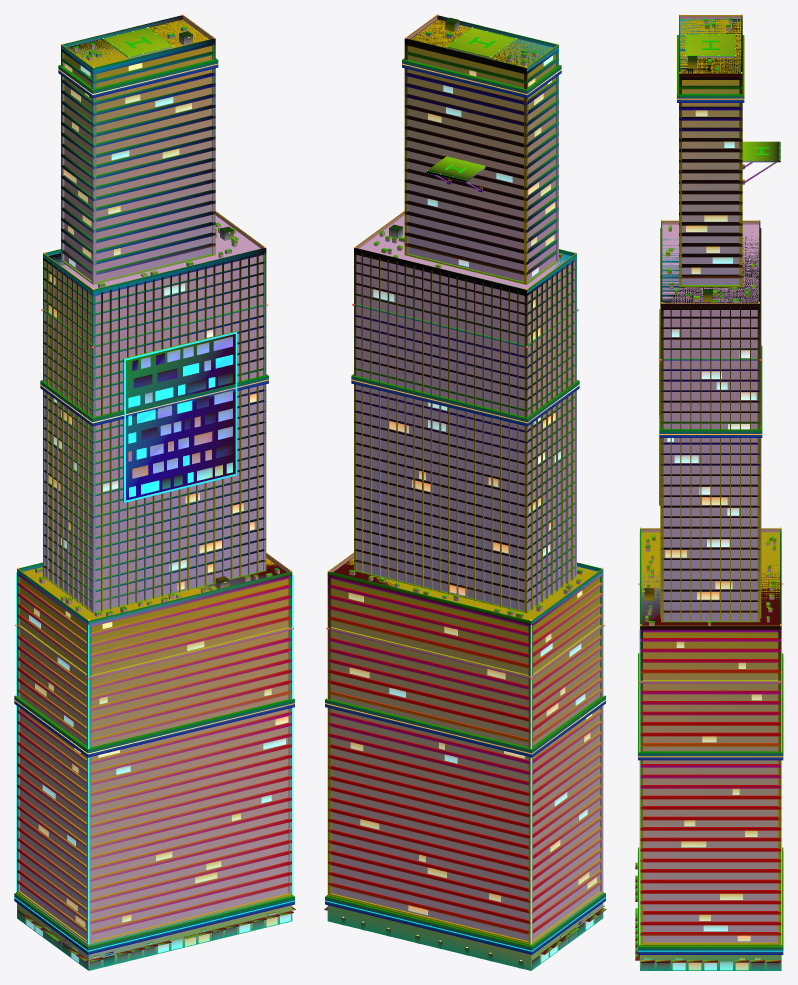
The model's file is Mega_Slab.fbx.
3 renders of one model, left to right at view 1: azimuth 30°, elevation 25°; view 2: azimuth 150°, elevation 25°; view 3: azimuth 270°, elevation 25°, orthographic.
Visible parts, largest first — view 1: Mega_Slab_LOD0; view 2: Mega_Slab_LOD0; view 3: Mega_Slab_LOD0.
Boxes of the visible parts, x1,y1,x2,y2 form: Mega_Slab_LOD0: [14, 14, 295, 970]; Mega_Slab_LOD0: [324, 14, 606, 970]; Mega_Slab_LOD0: [635, 14, 783, 970].
Size of what is drawn, in the model's own units: 74.8 by 300 by 46.05.
